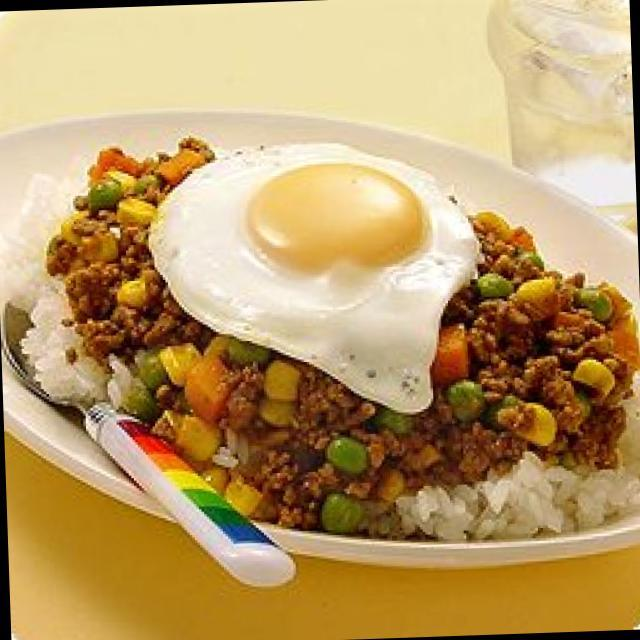Egg: (162, 123, 464, 374)
